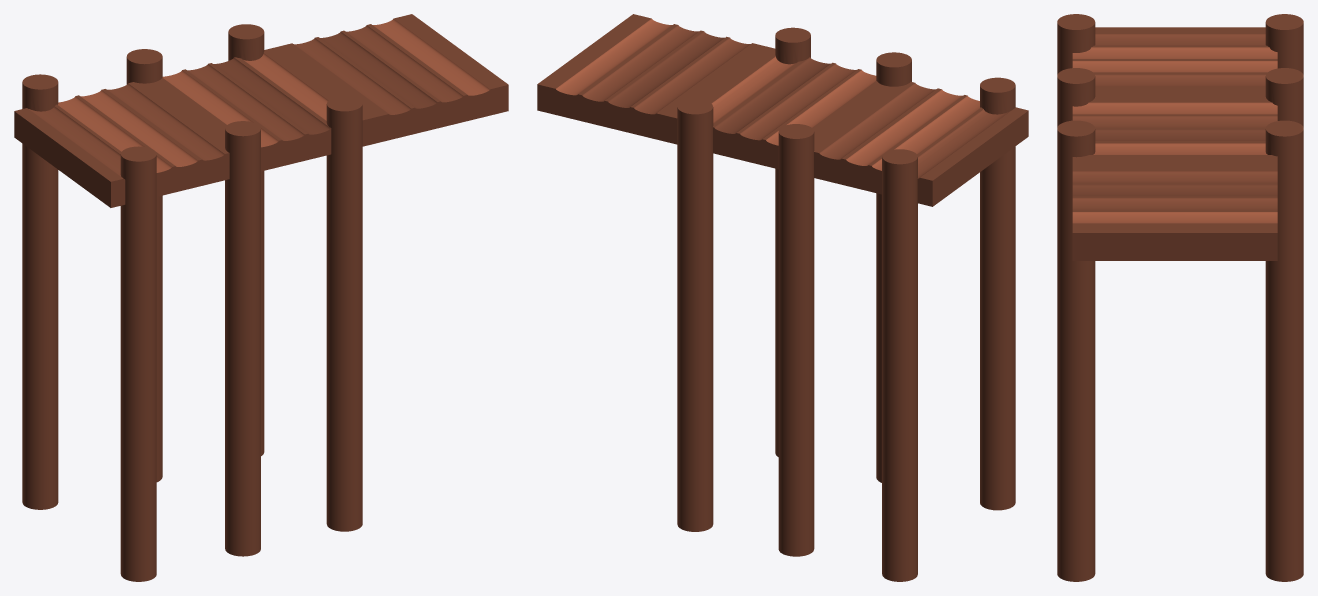
The model's file is preHarborPier2.fbx.
The picture shows the model from 3 angles, left to right: view 1: azimuth 30°, elevation 25°; view 2: azimuth 150°, elevation 25°; view 3: azimuth 270°, elevation 25°; orthographic projection. The views are drawn at different scales.
Visible parts, largest first — view 1: Model; view 2: Model; view 3: Model.
Boxes of the visible parts, x1,y1,x2,y2 form: Model: [14, 14, 508, 581]; Model: [537, 14, 1028, 581]; Model: [1057, 14, 1303, 581].
Size of the model in its own units: 1141 by 1152 by 578.
